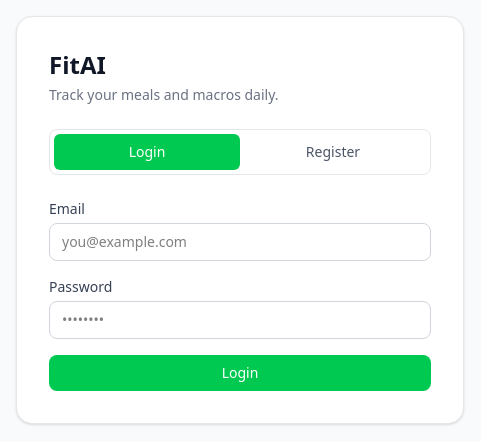
Test: Auth › switches to register tab on click
The width and height of the screenshot is (481, 442).
Click the button "Register" at (333, 152), box 240,134 -> 426,170
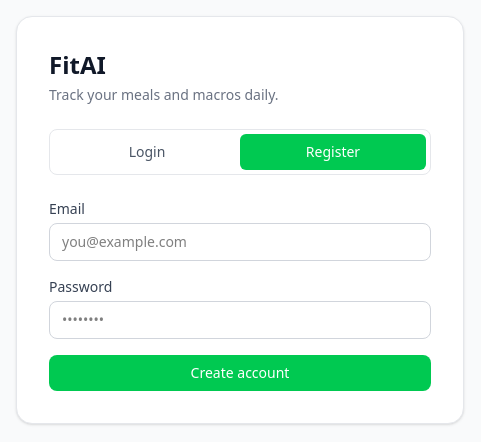
expect the button "Create account" is shown: met, box 49,355 -> 431,391
